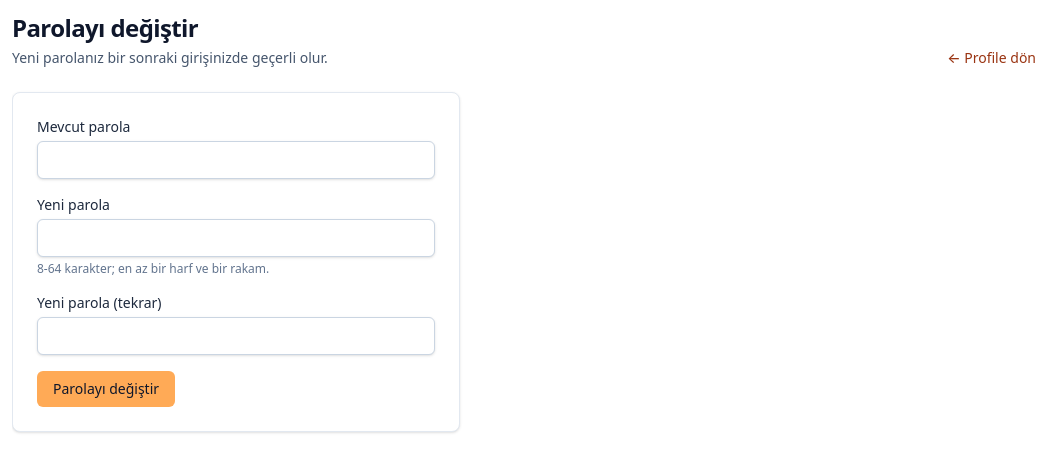
Test: ChangePasswordPage › validates {"current":"EskiParola1","next":"sadeceharf"} on the client
Type "EskiParola1" into the password field labelled "Mevcut parola" at (236, 160), box [37,141,435,179]
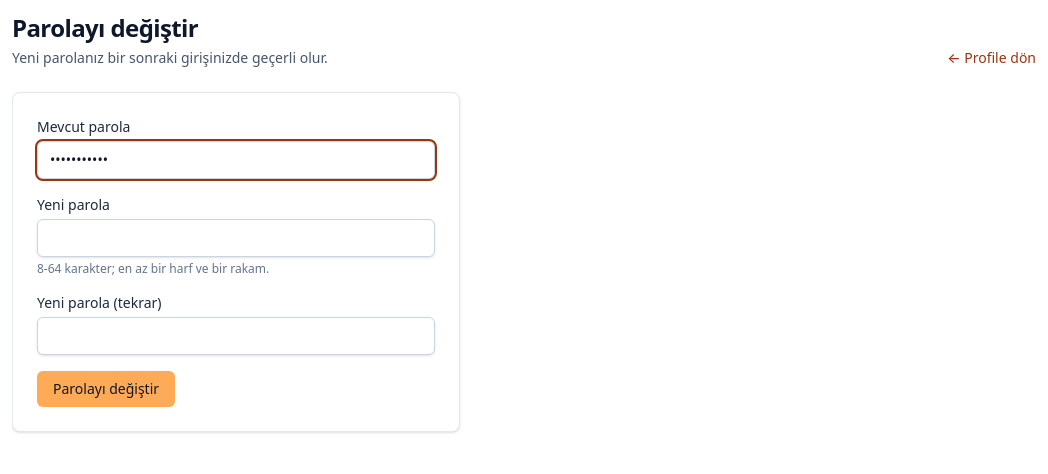
Type "sadeceharf" into the password field labelled "Yeni parola" at (236, 238), box [37,219,435,257]
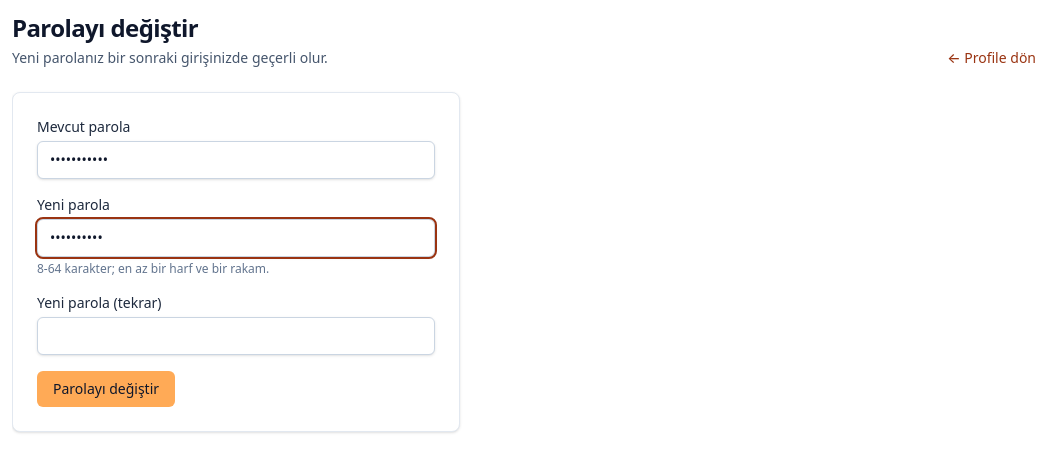
Type "sadeceharf" into the password field labelled "Yeni parola (tekrar)" at (236, 336), box [37,317,435,355]
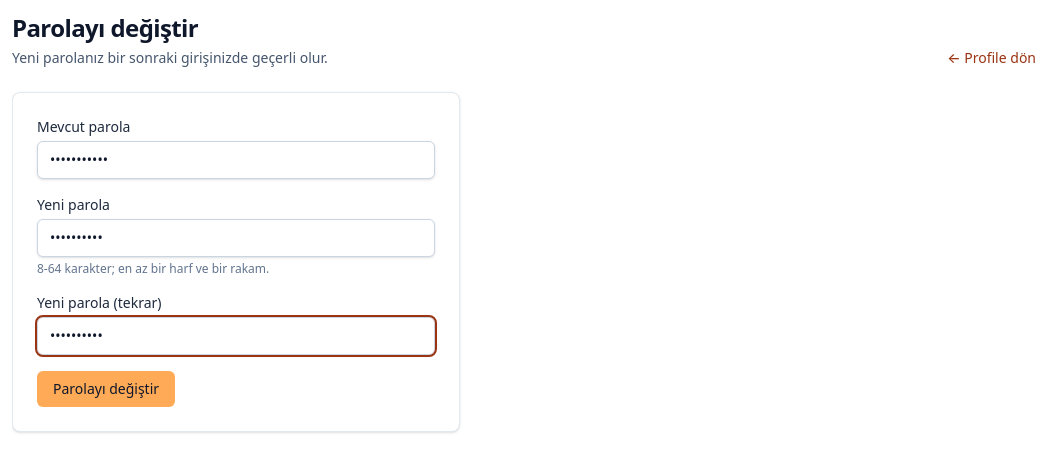
Click the button "Parolayı değiştir" at (106, 389), box [37,371,175,407]
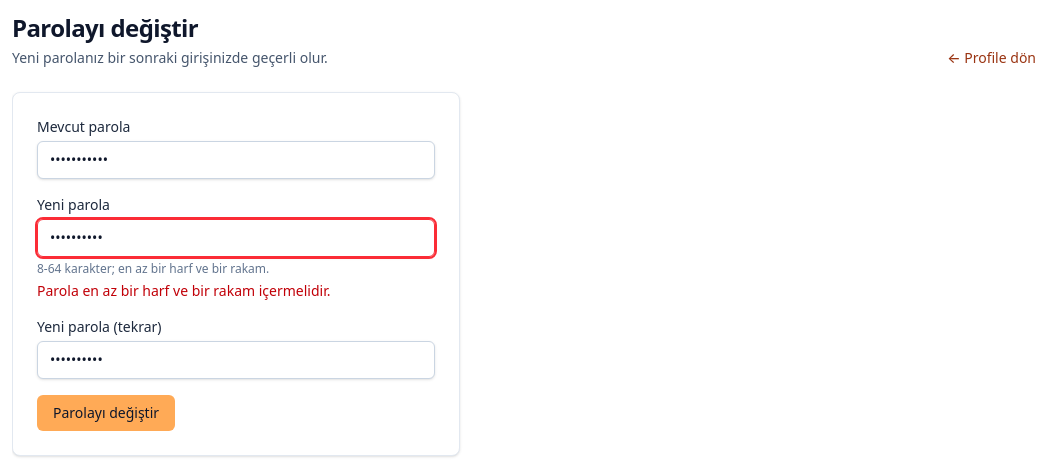
Check: the text "Parola en az bir harf ve bir rakam içermelidir." is shown, box [37,281,330,300]
